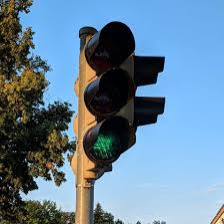semaforo: (80, 21, 137, 166)
